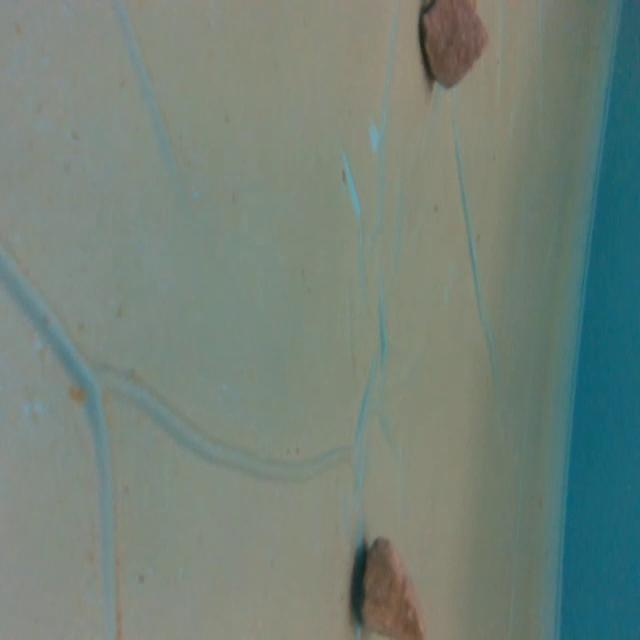rock: (352, 528, 430, 640), (414, 0, 494, 96)
